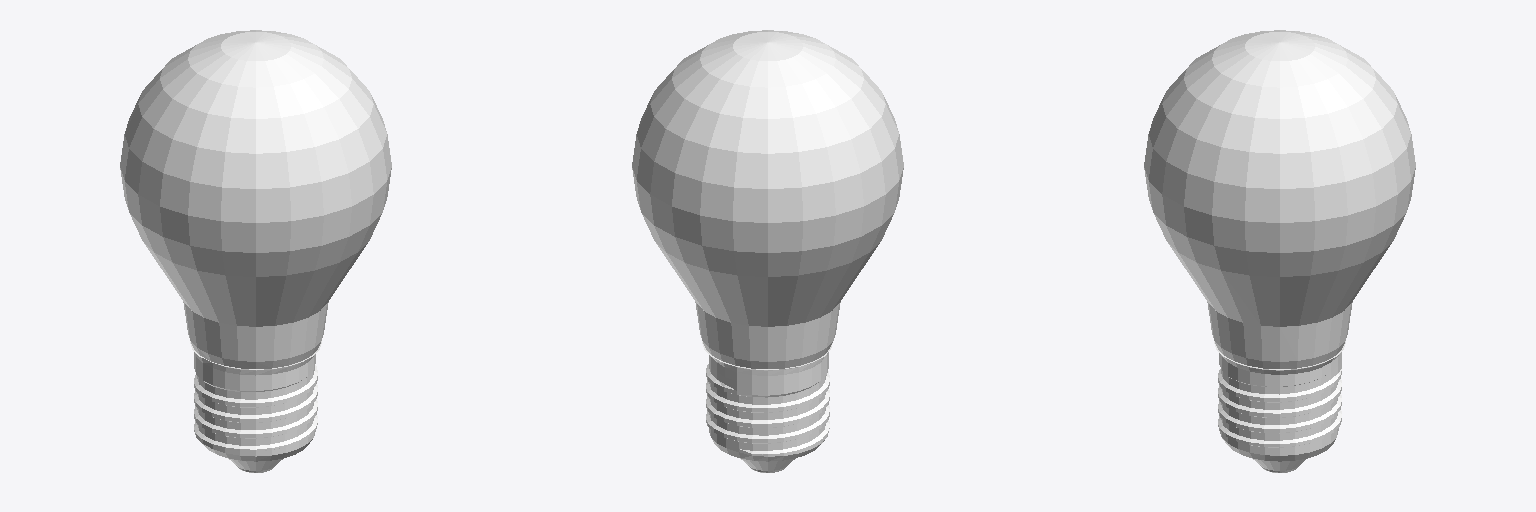
File: LightBulb.obj
3 views of the same model, side by side, from view 1: azimuth 30°, elevation 25°; view 2: azimuth 150°, elevation 25°; view 3: azimuth 270°, elevation 25° (orthographic).
Parts seen in each view (by area): view 1: LightBulb; view 2: LightBulb; view 3: LightBulb.
Part boxes in pixels (left/top/right/bottom): LightBulb: left=120, top=30, right=391, bottom=472; LightBulb: left=632, top=30, right=903, bottom=472; LightBulb: left=1144, top=30, right=1415, bottom=472.
Bounding box in the file's own units: 2.14 × 3.71 × 2.14.